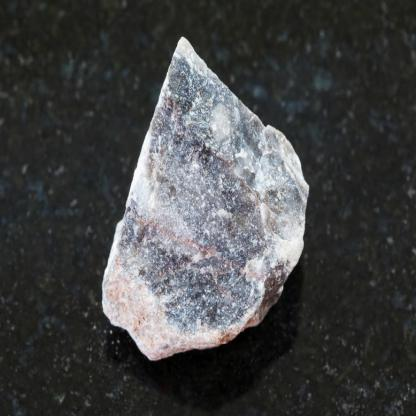Sedimentary_Limestone: (98, 36, 316, 362)
